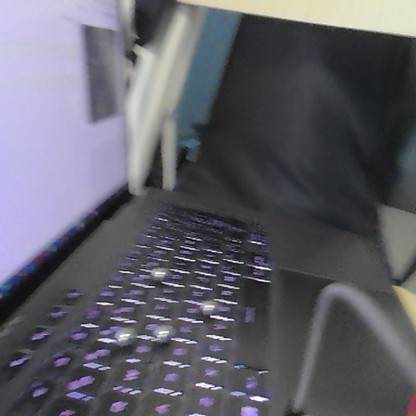ironball: (149, 322, 176, 348), (112, 322, 137, 348), (147, 264, 171, 285), (196, 297, 217, 316)
